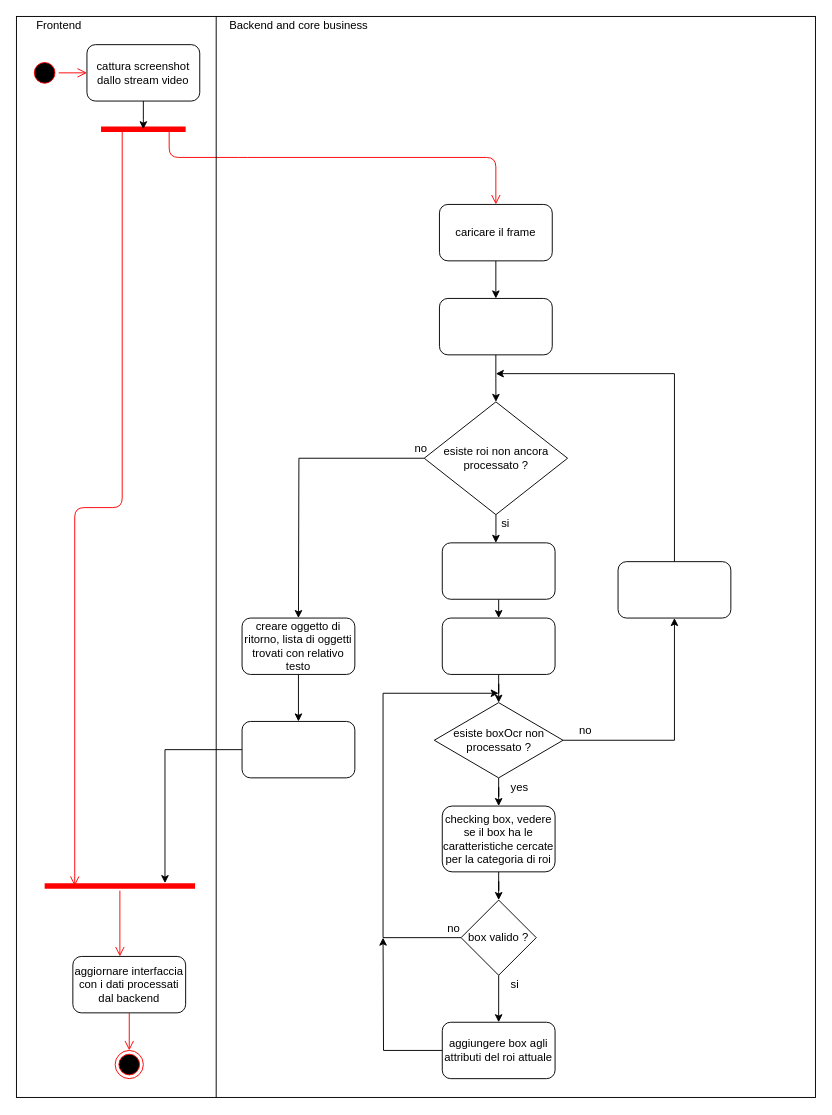
Image size: 832x1115. Some labels were removed from this diagram. The centre of each missing label's shape, as x and y in pixels:
"aggiungere roi processato alla lista di ritorno" goes at point (674, 589).
"crea dizionario associato ad un roi non processato" goes at point (498, 570).
"effettua OCR" goes at point (498, 645).
"effettuare detection" goes at point (495, 326).
"ritornare oggetto relativo al frame processato" goes at point (298, 749).
